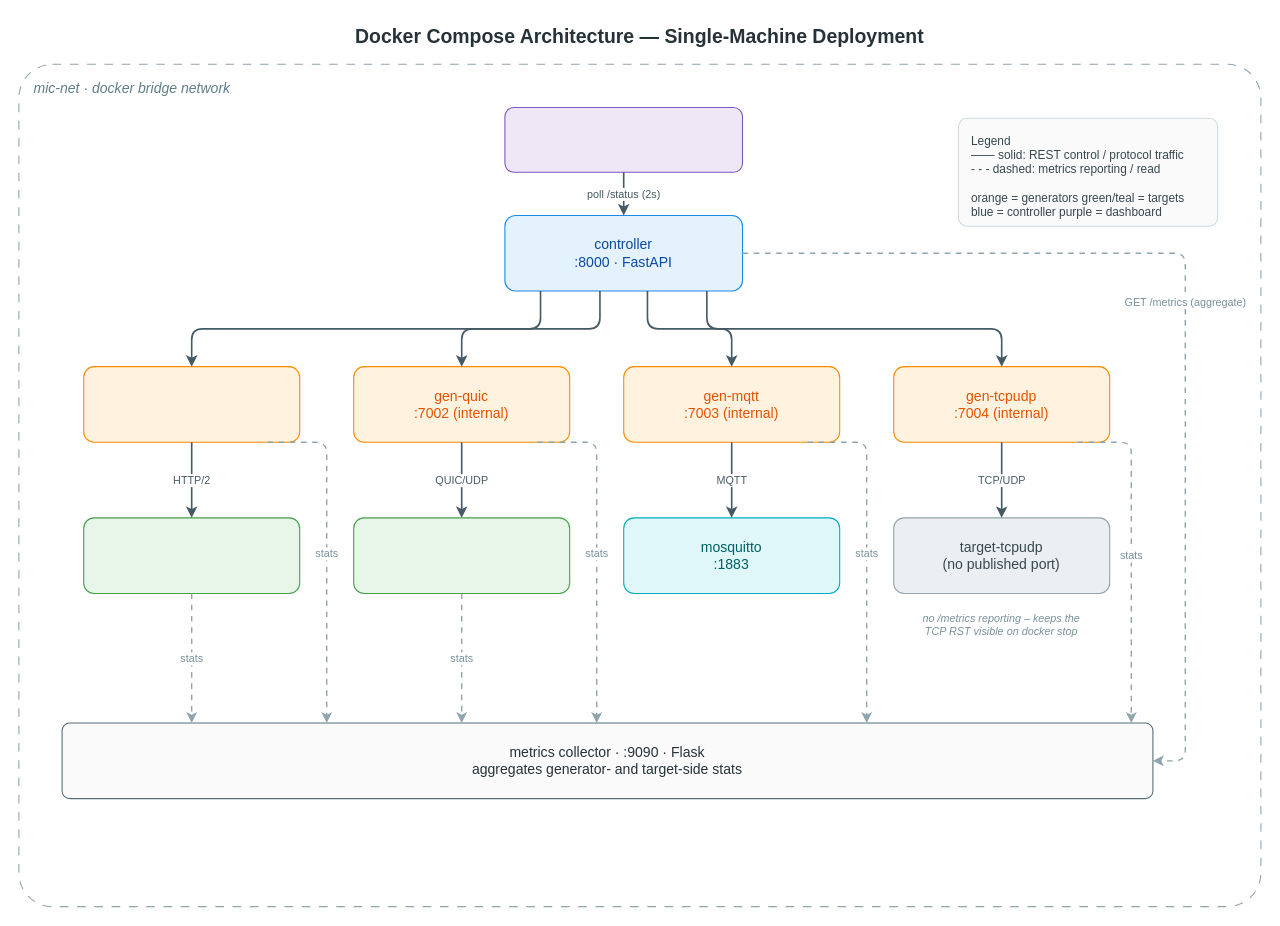
Some shapes in this 1280 by 926 pixel diagram are drawn without their labels. Here are the shapes that lost their labels. From the top down, the centre of each, then its label:
(x=623, y=139): dashboard :3000 · static HTML/JS
(x=191, y=404): gen-http2 :7001 (internal)
(x=191, y=555): target-http2 :8080
(x=461, y=555): target-quic :4433/udp
